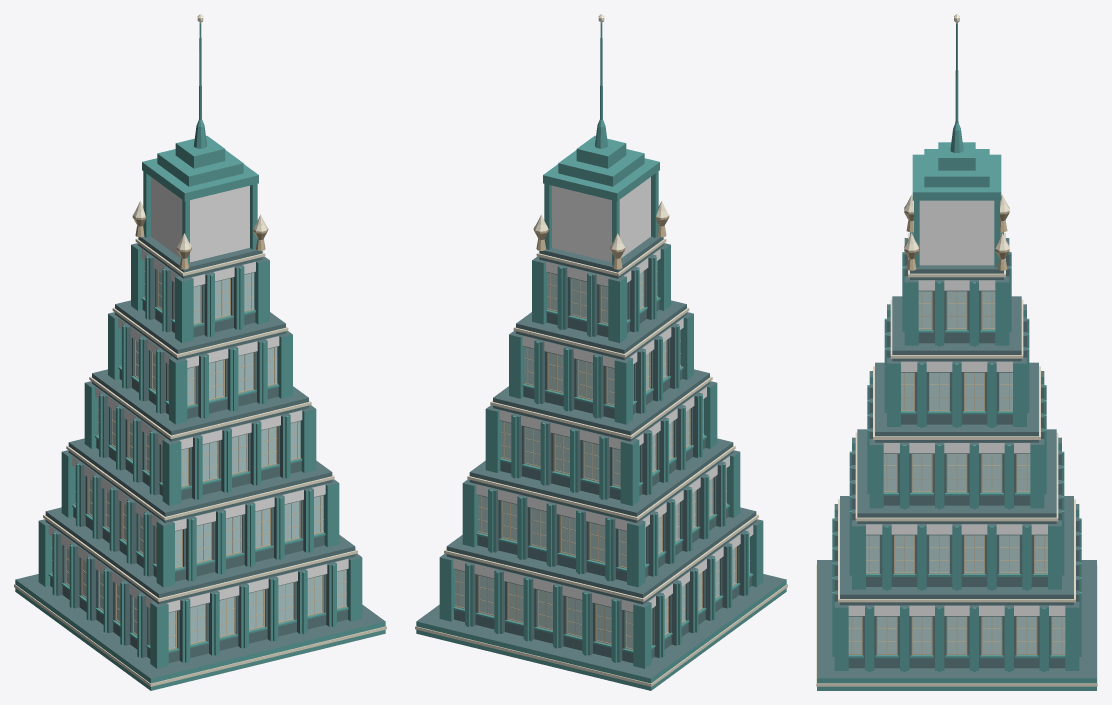
File: KC32__AD_Ext_Bldg_Crown_Ziggurat_Violet.glb
The picture shows the model from 3 angles, left to right: view 1: azimuth 30°, elevation 25°; view 2: azimuth 150°, elevation 25°; view 3: azimuth 270°, elevation 25°; orthographic projection. The views are drawn at different scales.
Parts seen in each view (by area): view 1: KC32_CORPS__AD_Ext_Bldg_Crown_Ziggurat_Violet, KC32_VITRAGE__AD_Ext_Bldg_Crown_Ziggurat_Violet, KC32_ACCENT__AD_Ext_Bldg_Crown_Ziggurat_Violet, KC32_LUMIERE__AD_Ext_Bldg_Crown_Ziggurat_Violet, KC32_BRONZE__AD_Ext_Bldg_Crown_Ziggurat_Violet; view 2: KC32_CORPS__AD_Ext_Bldg_Crown_Ziggurat_Violet, KC32_VITRAGE__AD_Ext_Bldg_Crown_Ziggurat_Violet, KC32_ACCENT__AD_Ext_Bldg_Crown_Ziggurat_Violet, KC32_LUMIERE__AD_Ext_Bldg_Crown_Ziggurat_Violet, KC32_BRONZE__AD_Ext_Bldg_Crown_Ziggurat_Violet; view 3: KC32_CORPS__AD_Ext_Bldg_Crown_Ziggurat_Violet, KC32_VITRAGE__AD_Ext_Bldg_Crown_Ziggurat_Violet, KC32_ACCENT__AD_Ext_Bldg_Crown_Ziggurat_Violet, KC32_LUMIERE__AD_Ext_Bldg_Crown_Ziggurat_Violet, KC32_BRONZE__AD_Ext_Bldg_Crown_Ziggurat_Violet.
Boxes of the visible parts, x1=… form: KC32_CORPS__AD_Ext_Bldg_Crown_Ziggurat_Violet: x1=15, y1=22, x2=385, y2=690; KC32_VITRAGE__AD_Ext_Bldg_Crown_Ziggurat_Violet: x1=52, y1=261, x2=346, y2=648; KC32_ACCENT__AD_Ext_Bldg_Crown_Ziggurat_Violet: x1=48, y1=177, x2=348, y2=612; KC32_LUMIERE__AD_Ext_Bldg_Crown_Ziggurat_Violet: x1=14, y1=14, x2=386, y2=686; KC32_BRONZE__AD_Ext_Bldg_Crown_Ziggurat_Violet: x1=51, y1=215, x2=346, y2=649; KC32_CORPS__AD_Ext_Bldg_Crown_Ziggurat_Violet: x1=416, y1=22, x2=786, y2=690; KC32_VITRAGE__AD_Ext_Bldg_Crown_Ziggurat_Violet: x1=455, y1=261, x2=749, y2=648; KC32_ACCENT__AD_Ext_Bldg_Crown_Ziggurat_Violet: x1=453, y1=177, x2=753, y2=612; KC32_LUMIERE__AD_Ext_Bldg_Crown_Ziggurat_Violet: x1=415, y1=14, x2=787, y2=686; KC32_BRONZE__AD_Ext_Bldg_Crown_Ziggurat_Violet: x1=455, y1=215, x2=750, y2=649; KC32_CORPS__AD_Ext_Bldg_Crown_Ziggurat_Violet: x1=817, y1=23, x2=1096, y2=690; KC32_VITRAGE__AD_Ext_Bldg_Crown_Ziggurat_Violet: x1=848, y1=291, x2=1065, y2=653; KC32_ACCENT__AD_Ext_Bldg_Crown_Ziggurat_Violet: x1=848, y1=200, x2=1065, y2=615; KC32_LUMIERE__AD_Ext_Bldg_Crown_Ziggurat_Violet: x1=816, y1=14, x2=1097, y2=686; KC32_BRONZE__AD_Ext_Bldg_Crown_Ziggurat_Violet: x1=848, y1=210, x2=1065, y2=654.
Bounding box in the file's own units: 12.08 × 29.25 × 12.08.
